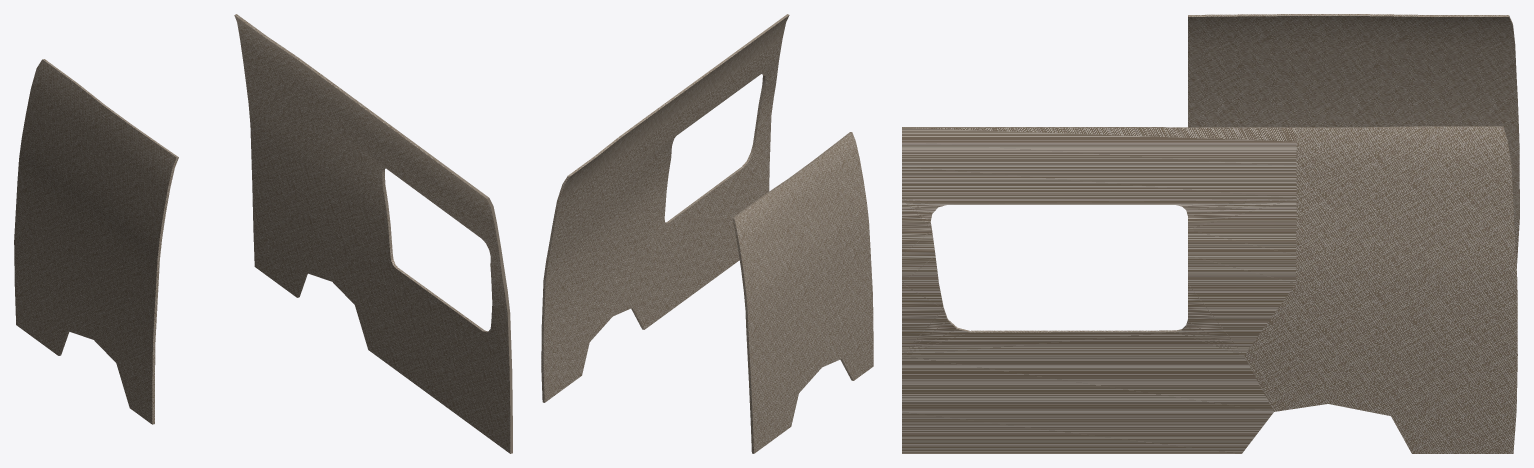
File: wall-and-ceiling-four.glb
3 renders of one model, left to right at view 1: azimuth 30°, elevation 25°; view 2: azimuth 150°, elevation 25°; view 3: azimuth 270°, elevation 25°, orthographic. The views are drawn at different scales.
Parts seen in each view (by area): view 1: Plane.003, Plane.004; view 2: Plane.003, Plane.004; view 3: Plane.003, Plane.004.
Boxes of the visible parts, box(x1,y1,x2,y2) form: Plane.003: box(234, 14, 512, 453); Plane.004: box(14, 59, 178, 424); Plane.003: box(541, 14, 789, 402); Plane.004: box(732, 132, 873, 453); Plane.003: box(902, 126, 1517, 453); Plane.004: box(1188, 14, 1519, 268).
Size of the model in its own units: 1.74 by 1.79 by 3.21.
2 materials, 2 textured.
